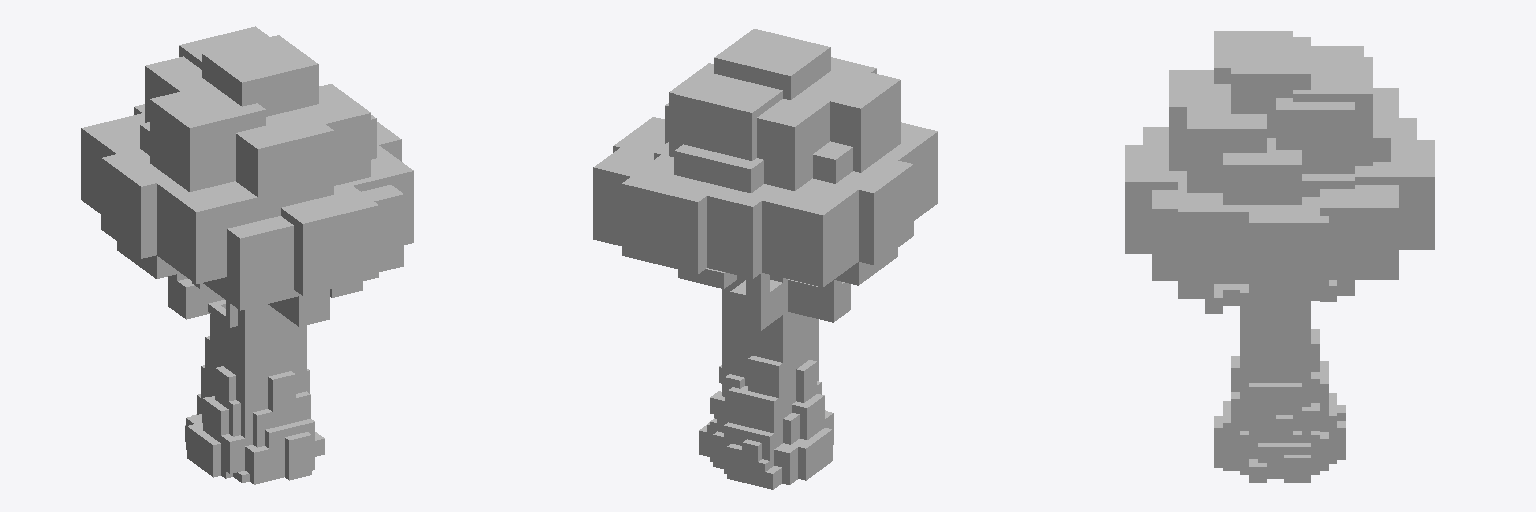
The model's file is Arbol.obj.
The picture shows the model from 3 angles: view 1: azimuth 30°, elevation 25°; view 2: azimuth 150°, elevation 25°; view 3: azimuth 270°, elevation 25°; orthographic projection.
Parts seen in each view (by area): view 1: object 1; view 2: object 1; view 3: object 1.
Boxes of the visible parts, x1,y1,x2,y2 form: object 1: [81, 26, 413, 484]; object 1: [593, 29, 937, 489]; object 1: [1125, 31, 1434, 482].
Size of the model in its own units: 3.4 by 5 by 3.5.